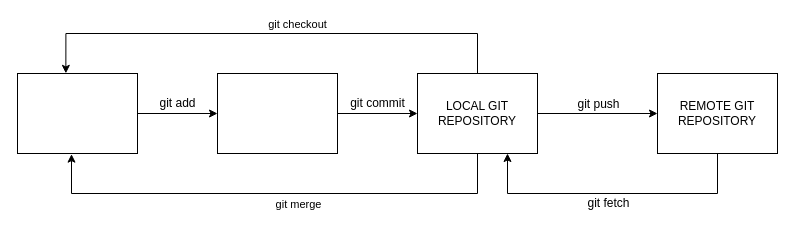
The diagram is 795 pixels wide and 227 high, and some of its shapes have lost their labels. Here are the shapes that lost their labels. From the top down, the centre of each, then its label:
At [77,113]: "WORKING DIRECTORY".
At [277,113]: "STAGED AREA".
